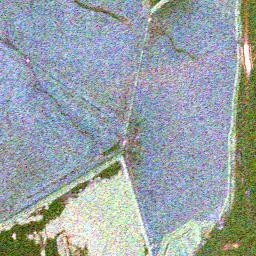Ship: (243, 40, 255, 75), (11, 229, 19, 240)
